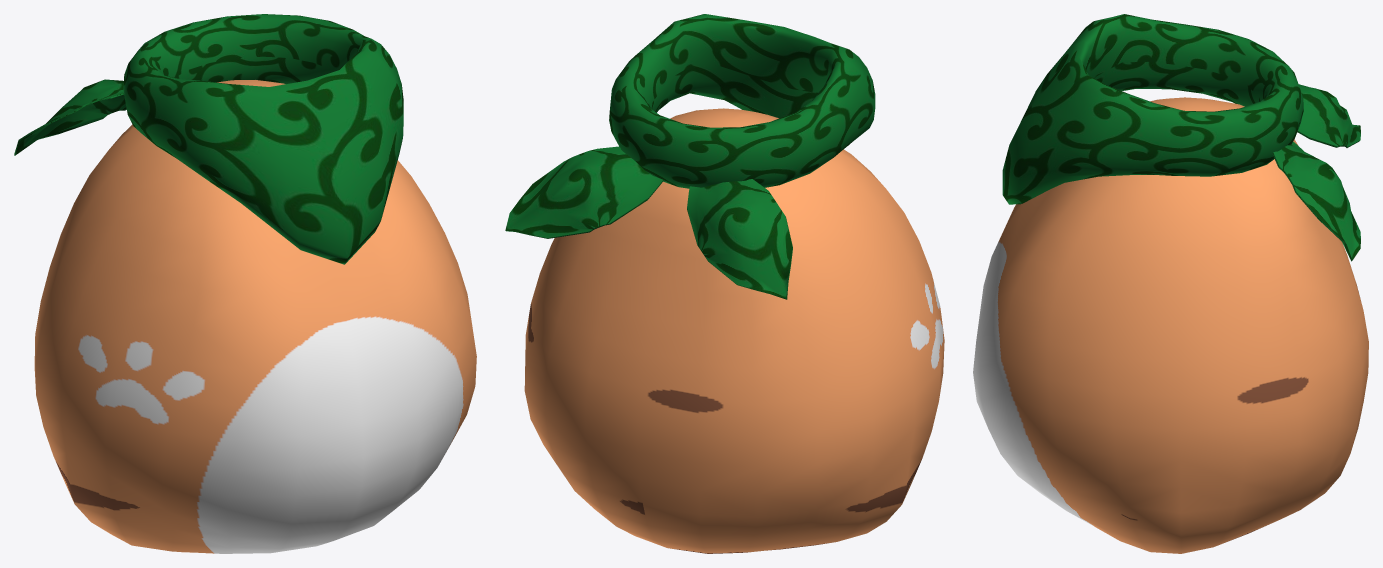
Rendered from cha_dog_body.obj.
3 renders of one model, left to right at view 1: azimuth 30°, elevation 25°; view 2: azimuth 150°, elevation 25°; view 3: azimuth 270°, elevation 25°, orthographic. The views are drawn at different scales.
Parts seen in each view (by area): view 1: pSphere5 cha_dog_body, cha_dog_body pTorus1, cha_dog_body pCube1; view 2: pSphere5 cha_dog_body, cha_dog_body pTorus1, cha_dog_body pCube1; view 3: pSphere5 cha_dog_body, cha_dog_body pTorus1, cha_dog_body pCube1.
Boxes of the visible parts, x1,y1,x2,y2 form: pSphere5 cha_dog_body: [34, 80, 476, 553]; cha_dog_body pTorus1: [123, 14, 403, 264]; cha_dog_body pCube1: [14, 79, 126, 155]; pSphere5 cha_dog_body: [524, 108, 944, 553]; cha_dog_body pTorus1: [609, 14, 875, 188]; cha_dog_body pCube1: [505, 146, 792, 299]; pSphere5 cha_dog_body: [973, 97, 1368, 553]; cha_dog_body pTorus1: [1002, 14, 1303, 204]; cha_dog_body pCube1: [1272, 84, 1360, 261].
Size of the model in its own units: 0.5938 by 0.72 by 0.5637.
Materials: 3 (3 with a texture image).
